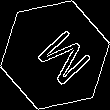M_SW: (22, 21, 88, 89)
